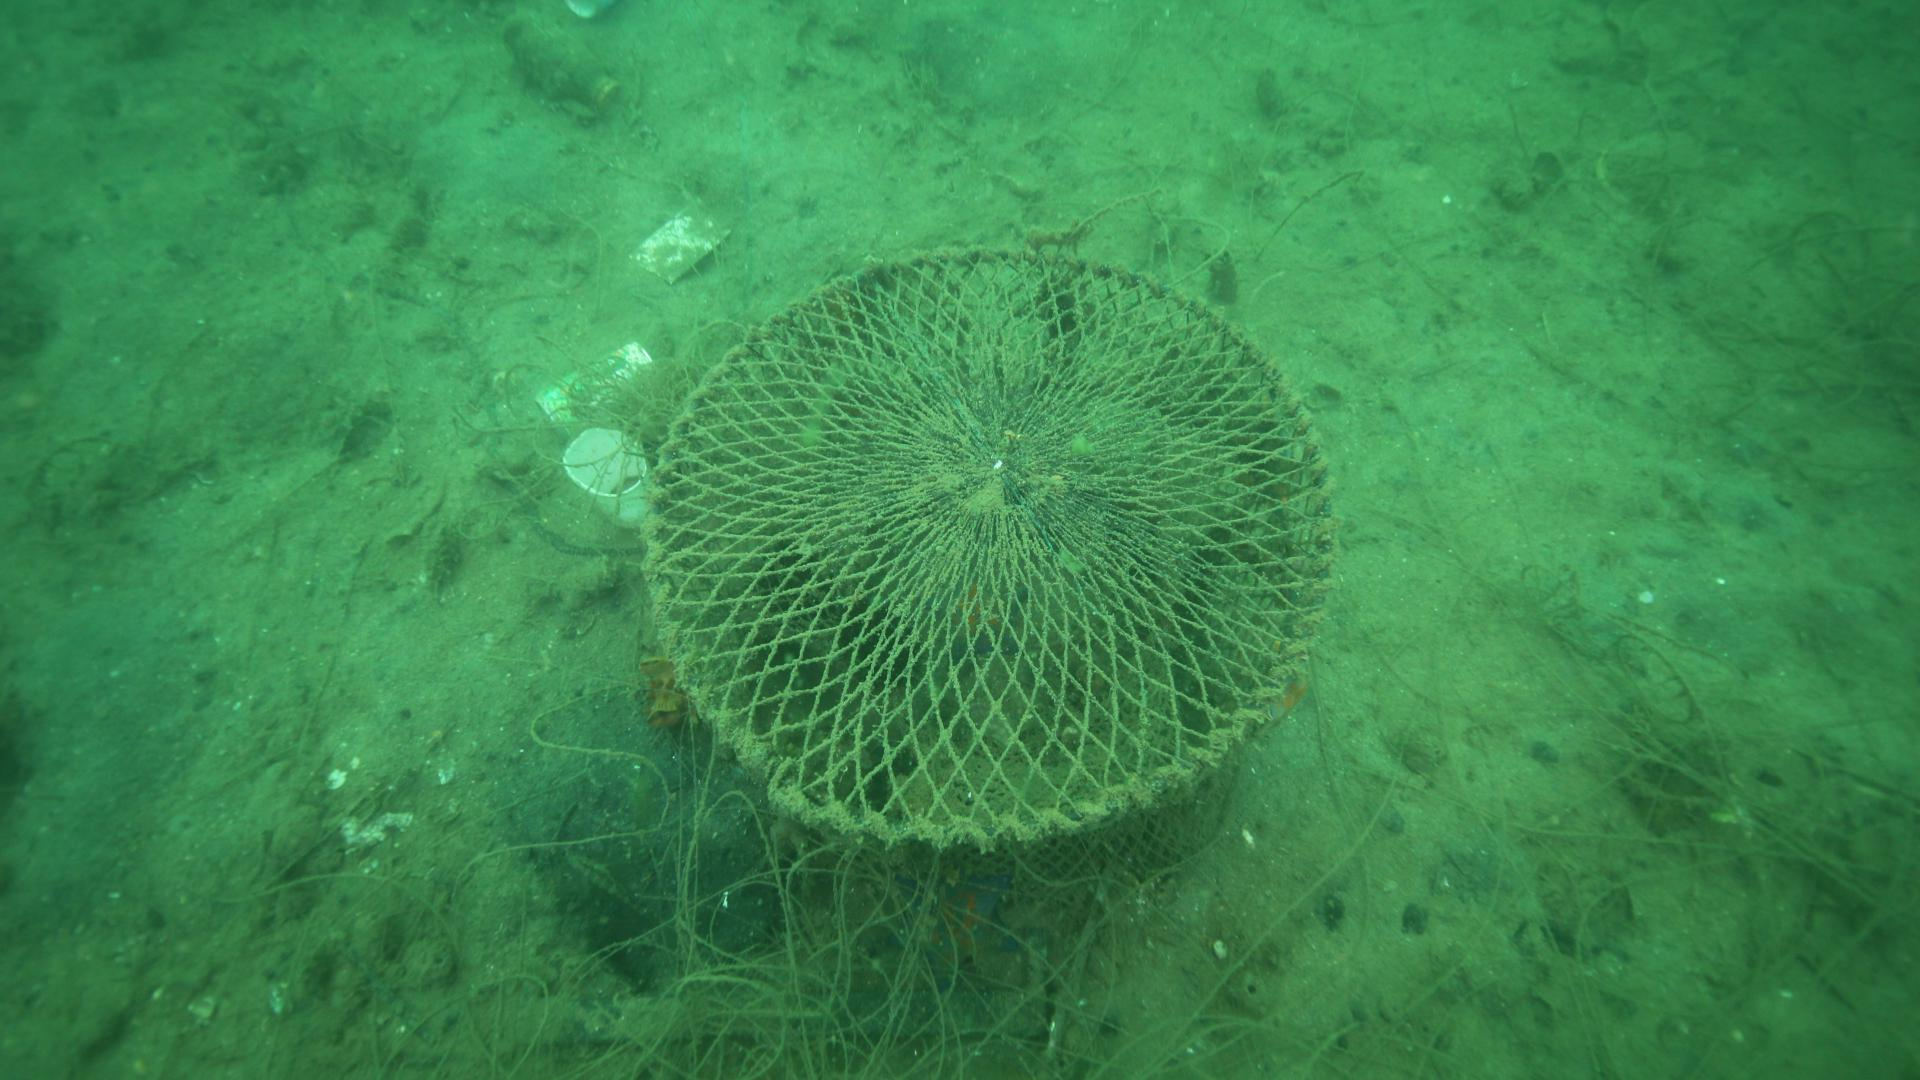circular fish trap: (637, 244, 1336, 890)
